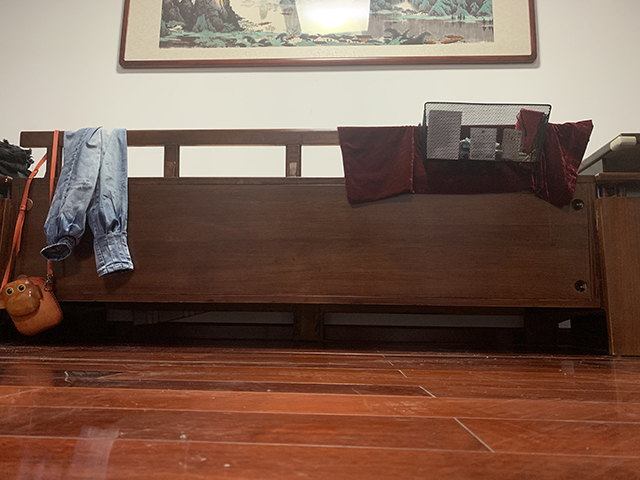bed: (1, 100, 640, 357)
